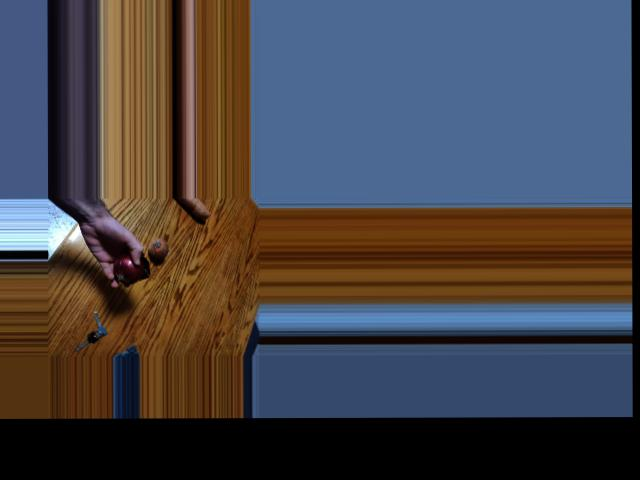onion: (115, 256, 143, 284)
